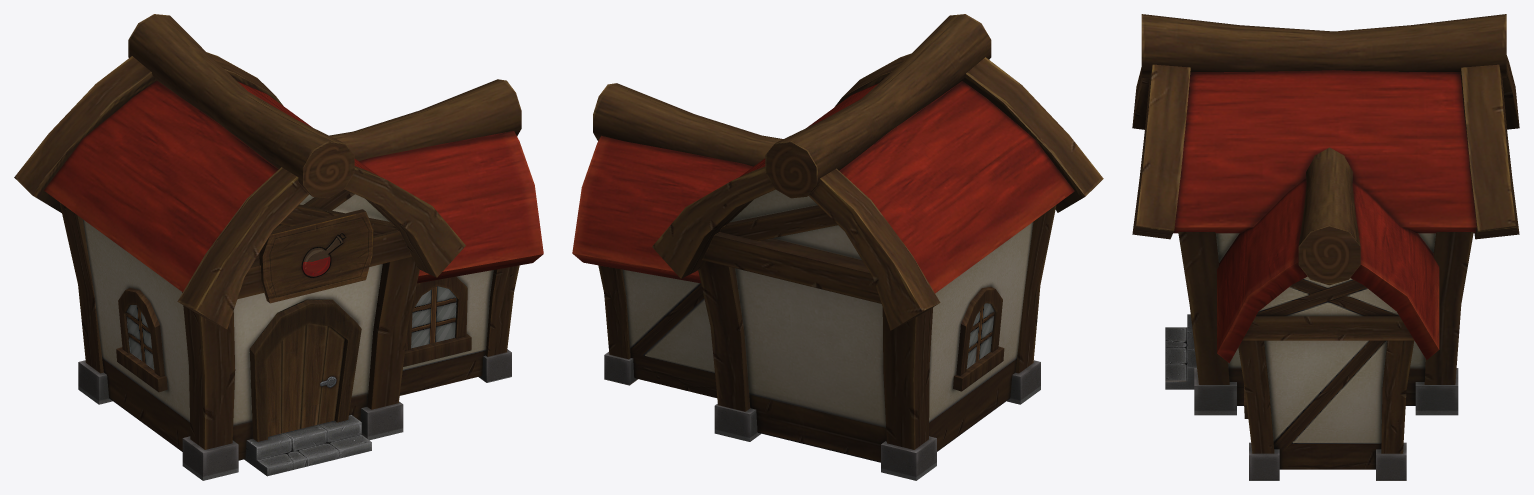
Rendered from modelBuilding_PotionShop.fbx.
3 renders of one model, left to right at view 1: azimuth 30°, elevation 25°; view 2: azimuth 150°, elevation 25°; view 3: azimuth 270°, elevation 25°, orthographic. The views are drawn at different scales.
Parts seen in each view (by area): view 1: modelBuilding_PotionShop; view 2: modelBuilding_PotionShop; view 3: modelBuilding_PotionShop.
Boxes of the visible parts, x1,y1,x2,y2 form: modelBuilding_PotionShop: [14, 14, 543, 480]; modelBuilding_PotionShop: [572, 14, 1103, 480]; modelBuilding_PotionShop: [1132, 14, 1519, 480].
Bounding box in the file's own units: 87.39 × 68.89 × 69.49.
